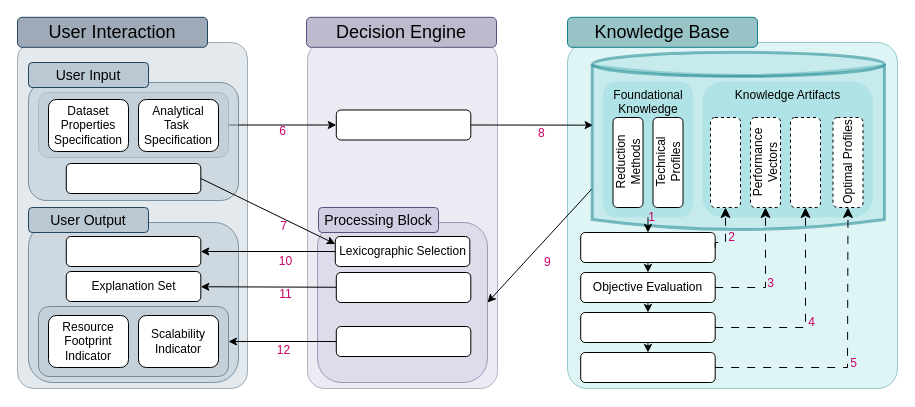
The diagram is 915 pixels wide and 407 high, and some of its shapes have lost their labels. The centre of each missing label's shape, as x and y in pixels:
Behavioral Analysis: point 647,327
Behavioral Patterns: point 805,162
Dataset Generator: point 647,247
Dataset Profiling: point 403,124
Datasets: point 725,162
Explainability Module: point 403,287
Preference Ranking: point 133,178
Recommendation List: point 133,251
Resource Efficiency Assessment: point 403,341
Trade-off Analysis: point 647,367
